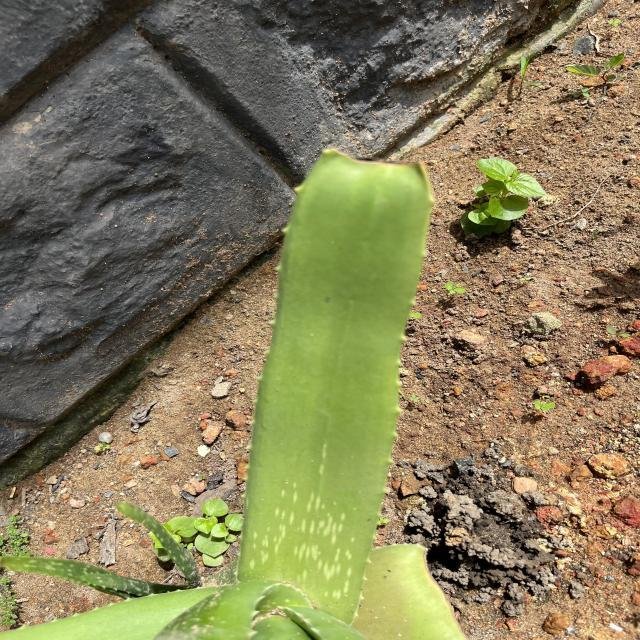Aloe vera: (236, 150, 442, 626)
